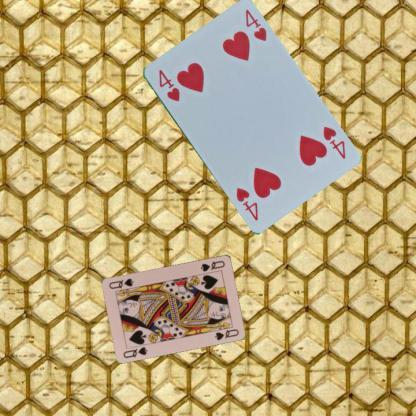4h: (155, 66, 181, 104), (320, 124, 347, 160)
Qs: (121, 344, 150, 359), (198, 258, 226, 272)
